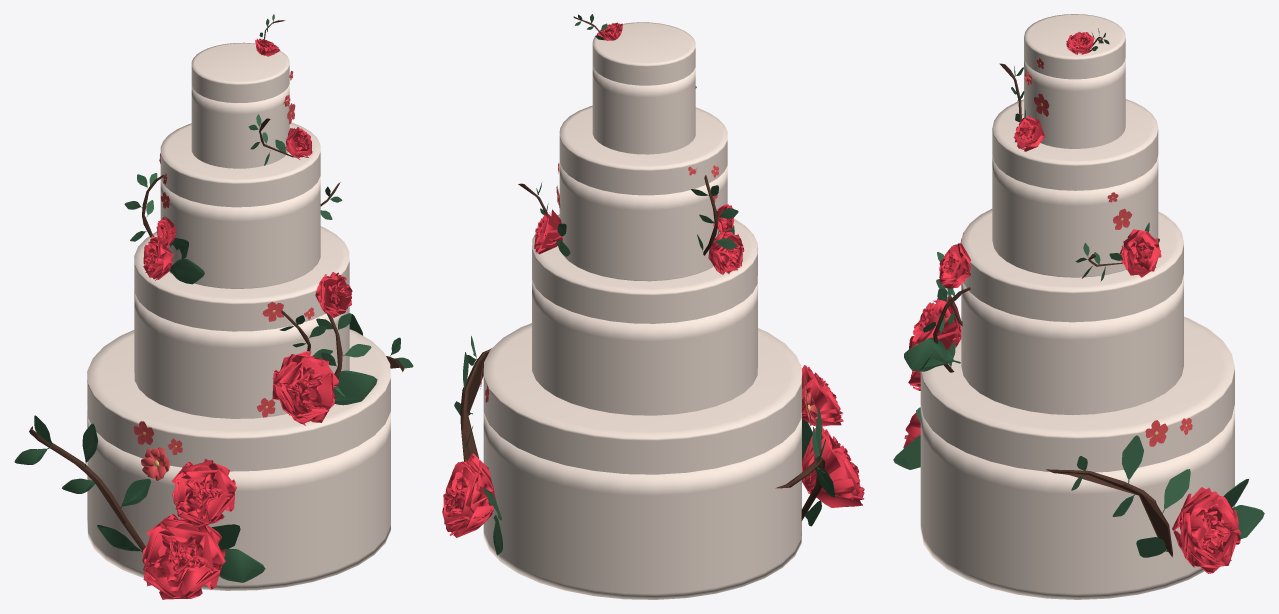
Rendered from 4-tier-white-roses-none.glb.
The picture shows the model from 3 angles, left to right: view 1: azimuth 30°, elevation 25°; view 2: azimuth 150°, elevation 25°; view 3: azimuth 270°, elevation 25°; orthographic projection. The views are drawn at different scales.
Visible parts, largest first — view 1: 3.001, 3, 2, 1, grid.013, Plane.024, grid.016, grid.012, grid.015, Plane.009, Plane.022, Plane.042 (+7 smaller); view 2: 3.001, 3, 2, 1, grid.020, grid.013, Plane.008, Plane.024, grid.012, grid.017, Plane.023, grid.019; view 3: 3.001, 3, 2, 1, grid.020, Plane.008, grid.016, grid.019, Plane.009, grid.015, grid.021, Plane.042 (+3 smaller).
Boxes of the visible parts, x1=… form: 3.001: x1=87, y1=329, x2=390, y2=590; 3: x1=134, y1=226, x2=349, y2=418; 2: x1=160, y1=122, x2=320, y2=288; 1: x1=191, y1=42, x2=289, y2=168; grid.013: x1=142, y1=514, x2=225, y2=599; Plane.024: x1=14, y1=415, x2=150, y2=552; grid.016: x1=272, y1=351, x2=338, y2=425; grid.012: x1=171, y1=458, x2=237, y2=527; grid.015: x1=315, y1=272, x2=352, y2=317; Plane.009: x1=333, y1=370, x2=377, y2=405; Plane.022: x1=219, y1=549, x2=265, y2=582; Plane.042: x1=316, y1=313, x2=371, y2=396; 3.001: x1=483, y1=323, x2=801, y2=599; 3: x1=532, y1=214, x2=757, y2=415; 2: x1=559, y1=105, x2=727, y2=281; 1: x1=592, y1=22, x2=695, y2=154; grid.020: x1=442, y1=453, x2=496, y2=537; grid.013: x1=802, y1=427, x2=864, y2=507; Plane.008: x1=454, y1=336, x2=491, y2=461; Plane.024: x1=775, y1=408, x2=834, y2=526; grid.012: x1=802, y1=365, x2=843, y2=426; grid.017: x1=708, y1=232, x2=744, y2=274; Plane.023: x1=691, y1=175, x2=738, y2=255; grid.019: x1=534, y1=209, x2=562, y2=254; 3.001: x1=920, y1=316, x2=1234, y2=599; 3: x1=961, y1=209, x2=1183, y2=415; 2: x1=992, y1=99, x2=1158, y2=277; 1: x1=1024, y1=14, x2=1125, y2=148; grid.020: x1=1172, y1=487, x2=1240, y2=573; Plane.008: x1=1046, y1=435, x2=1190, y2=557; grid.016: x1=909, y1=296, x2=961, y2=349; grid.019: x1=1119, y1=229, x2=1161, y2=277; Plane.009: x1=904, y1=337, x2=960, y2=371; grid.015: x1=939, y1=243, x2=970, y2=288; grid.021: x1=1013, y1=116, x2=1045, y2=151; Plane.042: x1=920, y1=287, x2=970, y2=372.
Bounding box in the file's own units: 6.25 × 7.85 × 5.05.
